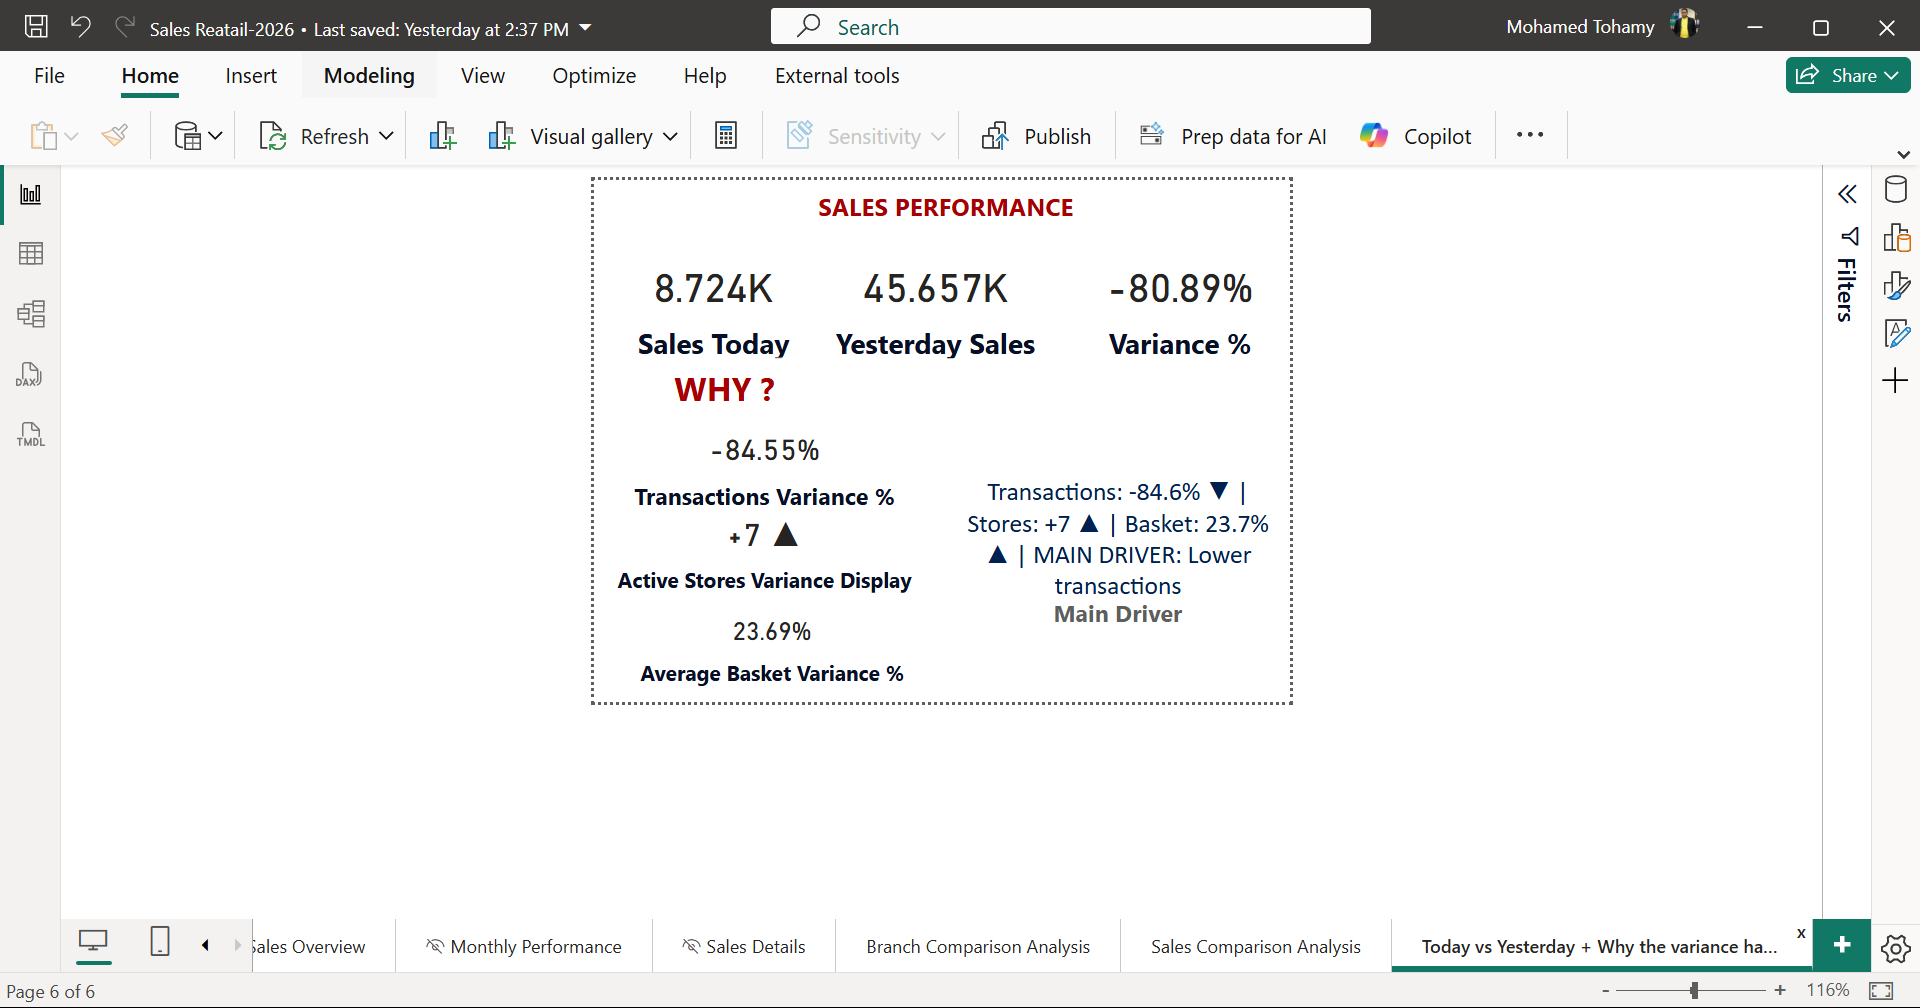

Layout of this report page (visuals, bound fields, positions):
{"tool":"powerbi","page":{"name":"Today vs Yesterday + Why the variance happened","canvas":[400,300],"ordinal":5},"visuals":[{"type":"textbox","box":[67,0,270,37],"z":0},{"type":"card","fields":{"Values":["Measure.Sales Today"]},"box":[4,37,128,70],"z":1000},{"type":"card","fields":{"Values":["Measure.Yesterday Sales"]},"box":[132,37,128,70],"z":2000},{"type":"card","fields":{"Values":["Measure.Variance %"]},"box":[272,37,128,70],"z":3000},{"type":"textbox","box":[0,102,150,39],"z":4000},{"type":"card","fields":{"Values":["Measure.Transactions Variance %"]},"box":[0,141,196,55],"z":5000},{"type":"card","fields":{"Values":["Measure.Active Stores Variance Display"]},"box":[0,188,196,58],"z":6000},{"type":"card","fields":{"Values":["Measure.Average Basket Variance %"]},"box":[4,246,196,54],"z":7000},{"type":"card","fields":{"Values":["Measure.Main Driver2"]},"box":[202,122,198,178],"z":8000}]}

Visuals, with their boxes on the page's 400x300 design canvas (x1, y1, x2, y2). These are canvas units, not pixel positions in the 1920x1008 screenshot, which may show the page scaled, cropped or inside an application window:
textbox: <region>67, 0, 337, 37</region>
card - Measure.Sales Today: <region>4, 37, 132, 107</region>
card - Measure.Yesterday Sales: <region>132, 37, 260, 107</region>
card - Measure.Variance %: <region>272, 37, 400, 107</region>
textbox: <region>0, 102, 150, 141</region>
card - Measure.Transactions Variance %: <region>0, 141, 196, 196</region>
card - Measure.Active Stores Variance Display: <region>0, 188, 196, 246</region>
card - Measure.Average Basket Variance %: <region>4, 246, 200, 300</region>
card - Measure.Main Driver2: <region>202, 122, 400, 300</region>
